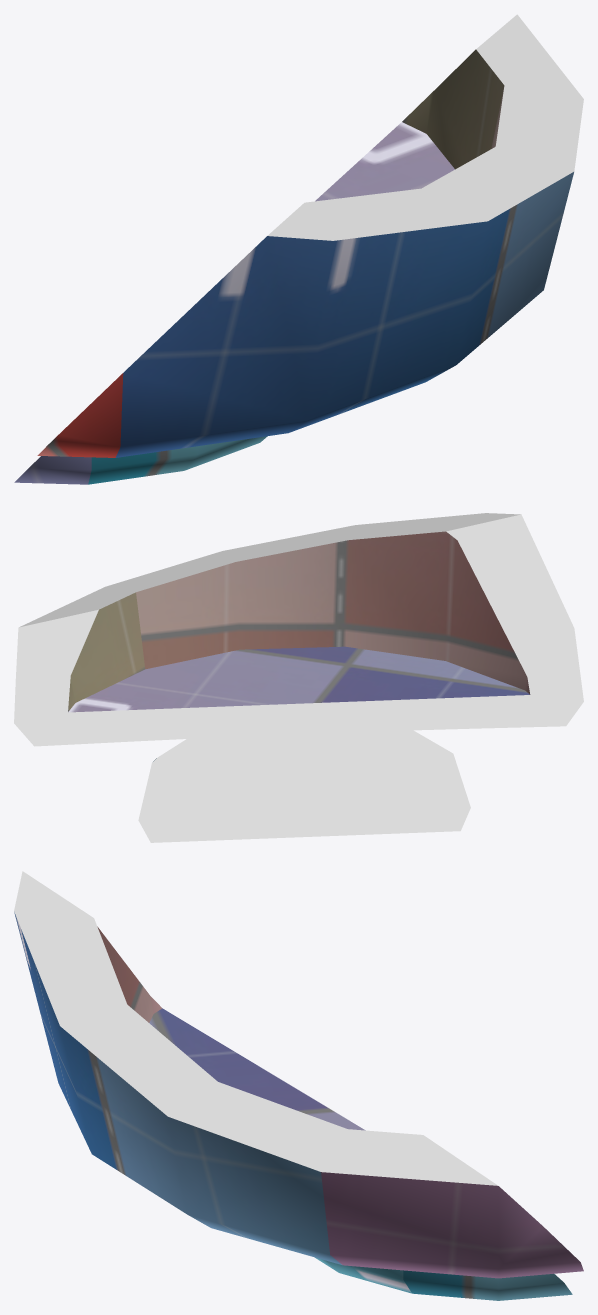
File: LongVase_SHAT_cell.fbx
The picture shows the model from 3 angles, top to bottom: view 1: azimuth 30°, elevation 25°; view 2: azimuth 150°, elevation 25°; view 3: azimuth 270°, elevation 25°; orthographic projection. The views are drawn at different scales.
Parts seen in each view (by area): view 1: LongVase_SHAT_cell.011; view 2: LongVase_SHAT_cell.011; view 3: LongVase_SHAT_cell.011.
Boxes of the visible parts, left/top/right/bottom form: LongVase_SHAT_cell.011: left=14, top=14, right=583, bottom=484; LongVase_SHAT_cell.011: left=14, top=513, right=583, bottom=842; LongVase_SHAT_cell.011: left=14, top=871, right=583, bottom=1300.
Size of the model in its own units: 0.616 by 0.3061 by 0.5123.
2 materials, 1 textured.
